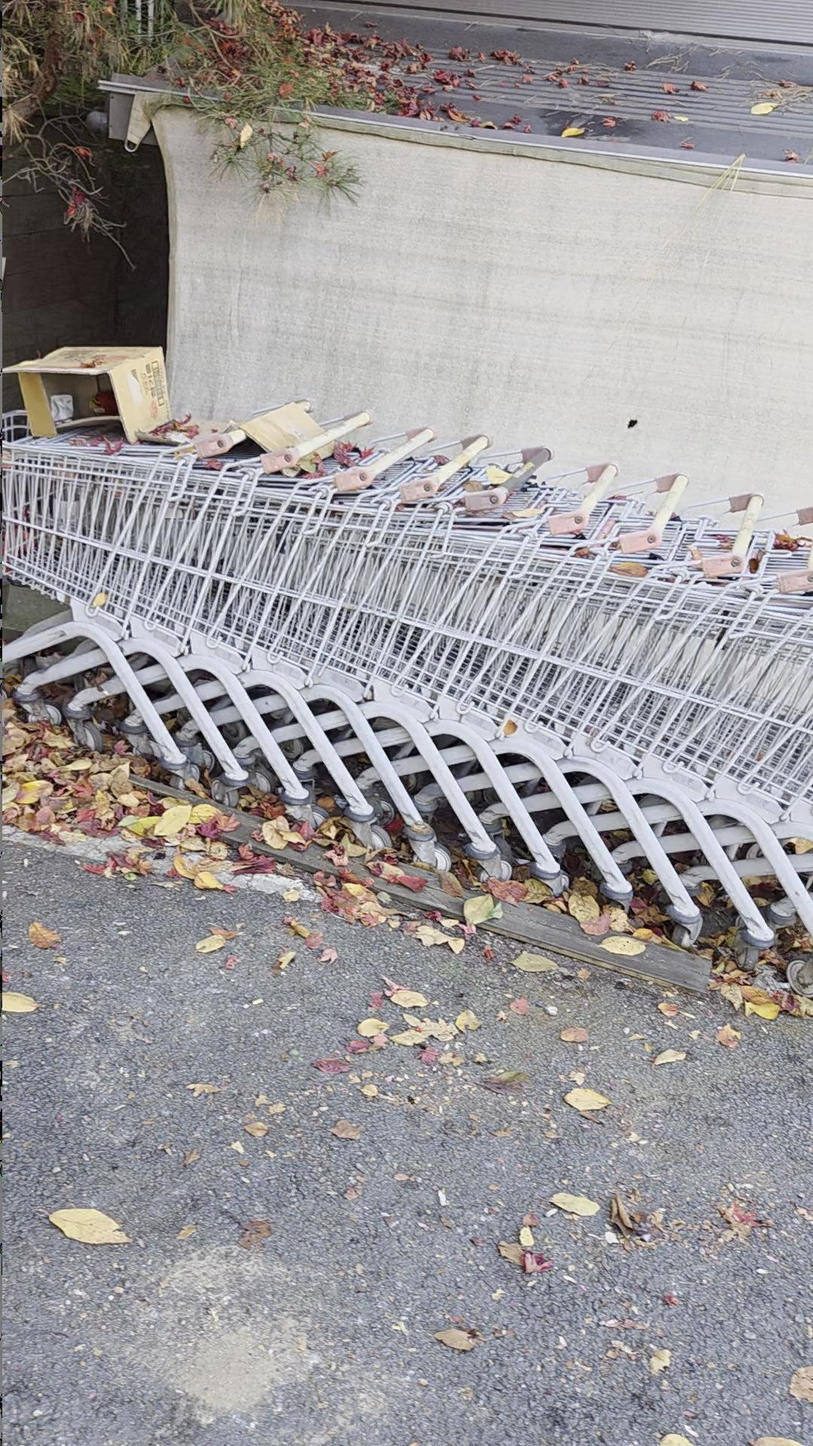combined_cart: (0, 399, 808, 958)
